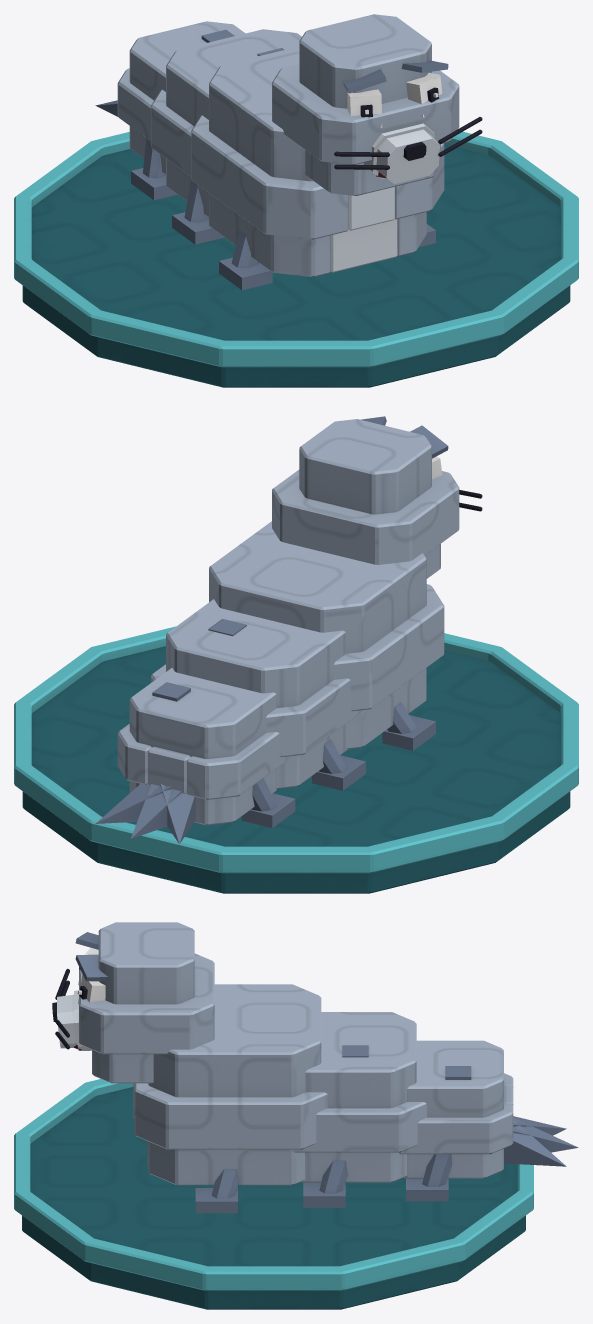
The model's file is SealCaterpillar.fbx.
3 renders of one model, top to bottom at view 1: azimuth 30°, elevation 25°; view 2: azimuth 150°, elevation 25°; view 3: azimuth 270°, elevation 25°, orthographic. The views are drawn at different scales.
Visible parts, largest first — view 1: Art_SealCaterpillar_Stand, Art_SealCaterpillar_Front, Art_SealCaterpillar_Head, Art_SealCaterpillar_Mid, Art_SealCaterpillar_Rear; view 2: Art_SealCaterpillar_Stand, Art_SealCaterpillar_Front, Art_SealCaterpillar_Head, Art_SealCaterpillar_Rear, Art_SealCaterpillar_Mid; view 3: Art_SealCaterpillar_Stand, Art_SealCaterpillar_Front, Art_SealCaterpillar_Head, Art_SealCaterpillar_Mid, Art_SealCaterpillar_Rear.
Part boxes in pixels (x1,y1,x2,y2): Art_SealCaterpillar_Stand: (14, 131, 578, 387); Art_SealCaterpillar_Front: (95, 46, 444, 290); Art_SealCaterpillar_Head: (272, 14, 482, 195); Art_SealCaterpillar_Mid: (151, 29, 301, 244); Art_SealCaterpillar_Rear: (117, 21, 245, 200); Art_SealCaterpillar_Stand: (14, 626, 578, 893); Art_SealCaterpillar_Front: (95, 521, 444, 844); Art_SealCaterpillar_Head: (272, 416, 482, 578); Art_SealCaterpillar_Rear: (117, 668, 295, 827); Art_SealCaterpillar_Mid: (151, 599, 365, 790); Art_SealCaterpillar_Stand: (14, 1079, 533, 1309); Art_SealCaterpillar_Front: (133, 984, 578, 1213); Art_SealCaterpillar_Head: (52, 922, 214, 1083); Art_SealCaterpillar_Mid: (292, 1012, 426, 1207); Art_SealCaterpillar_Rear: (399, 1040, 513, 1201).
Size of the model in its own units: 3.19 by 1.76 by 3.46.
